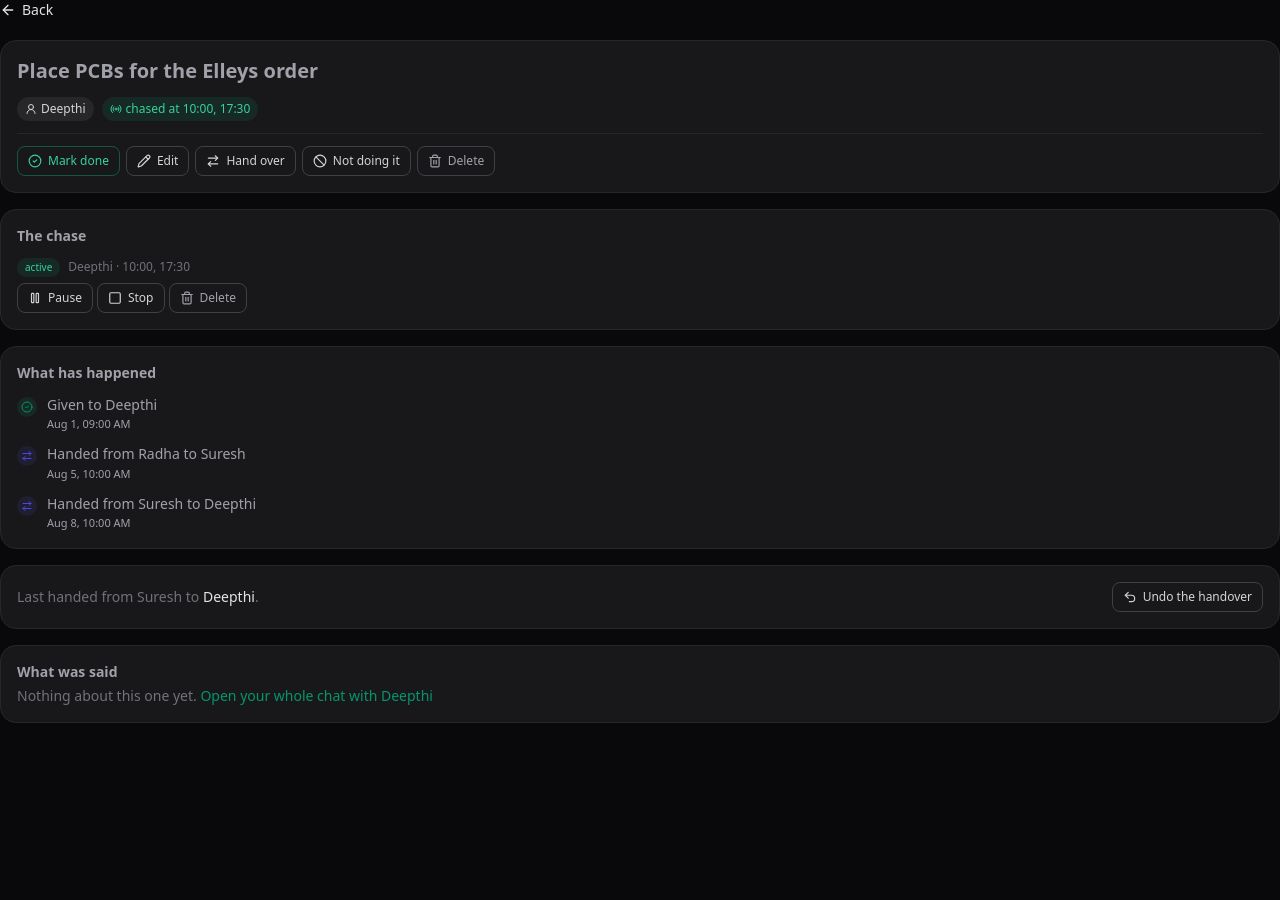
Test: undoing a handover (BEA-1315) › names the LAST handover, not the first
Click the button "Undo the handover" at point(1187, 597), box [1112, 582, 1263, 612]
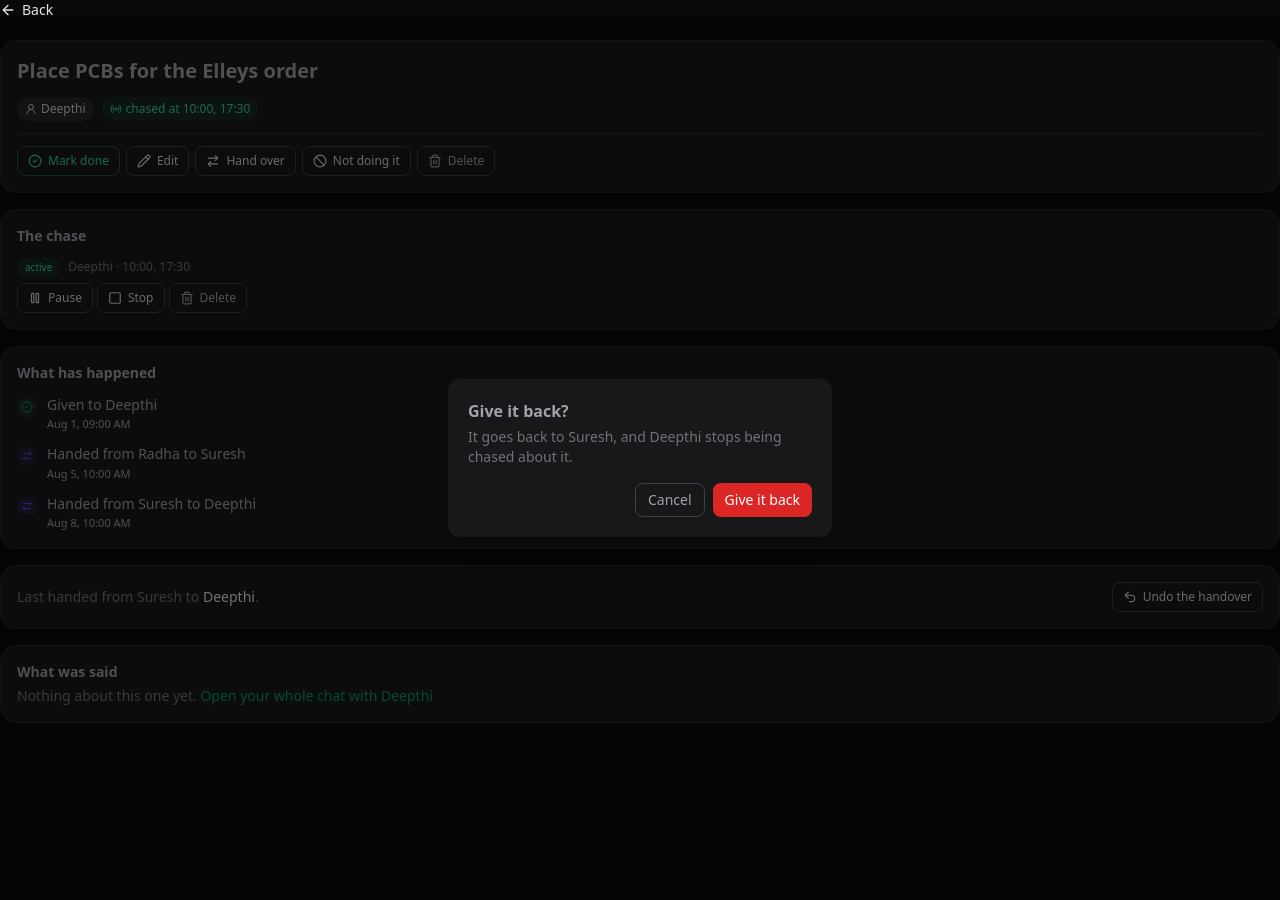
Result: the text "goes back to Suresh" is shown at [468, 427, 782, 466]
